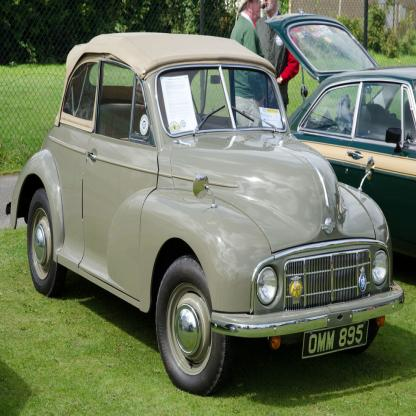Car: (6, 34, 405, 393), (267, 10, 416, 257)
